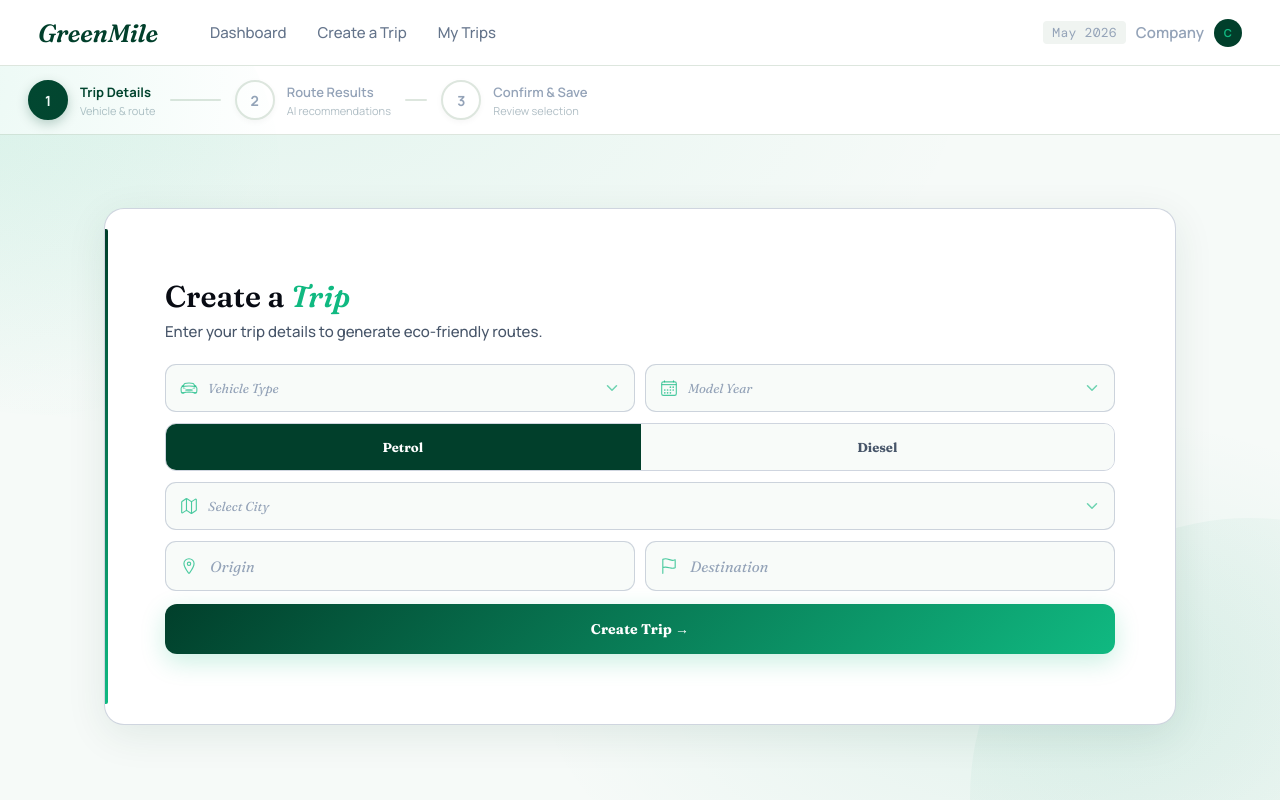
Test: TripScreen — User Interactions › selecting a vehicle type updates the button text
The image size is (1280, 800).
Click the button "Vehicle Type".
click(243, 388)  # box [165,364,635,412]
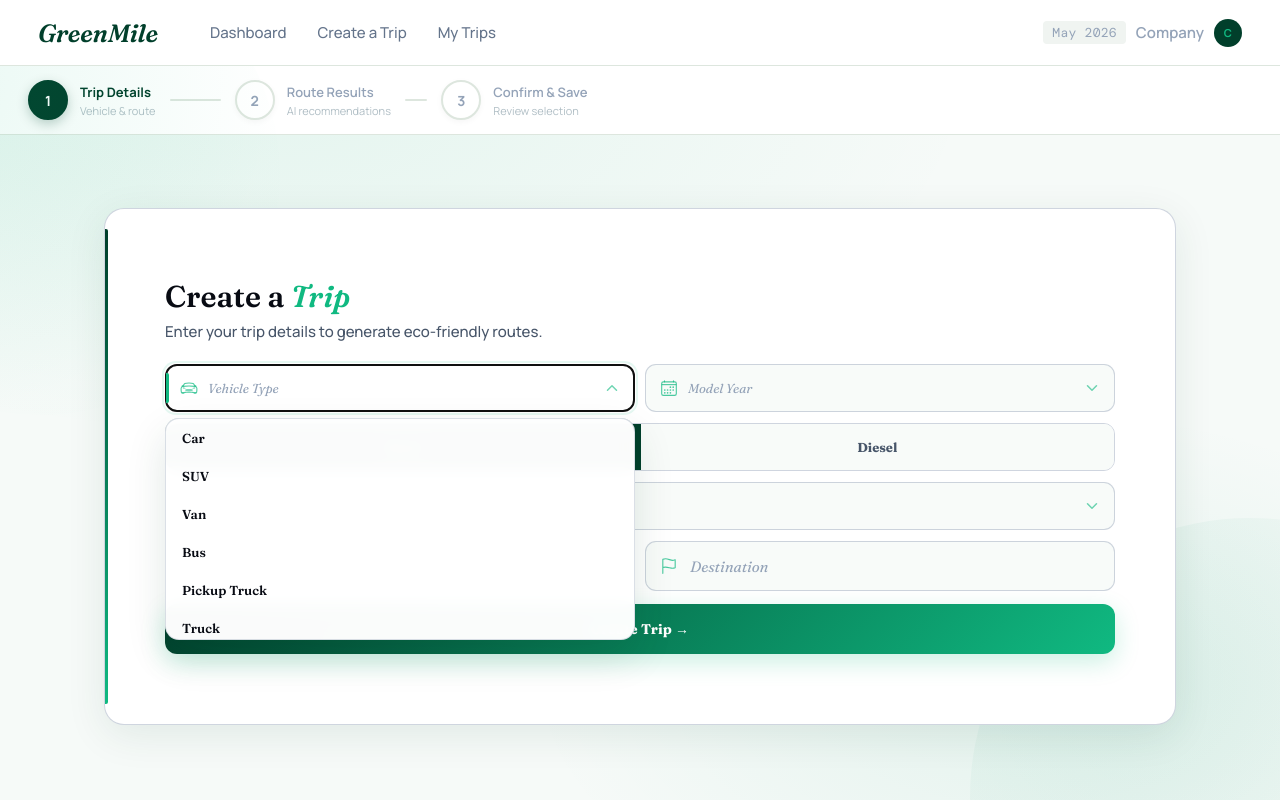
Click the button "SUV".
click(196, 476)  # box [166,457,634,495]
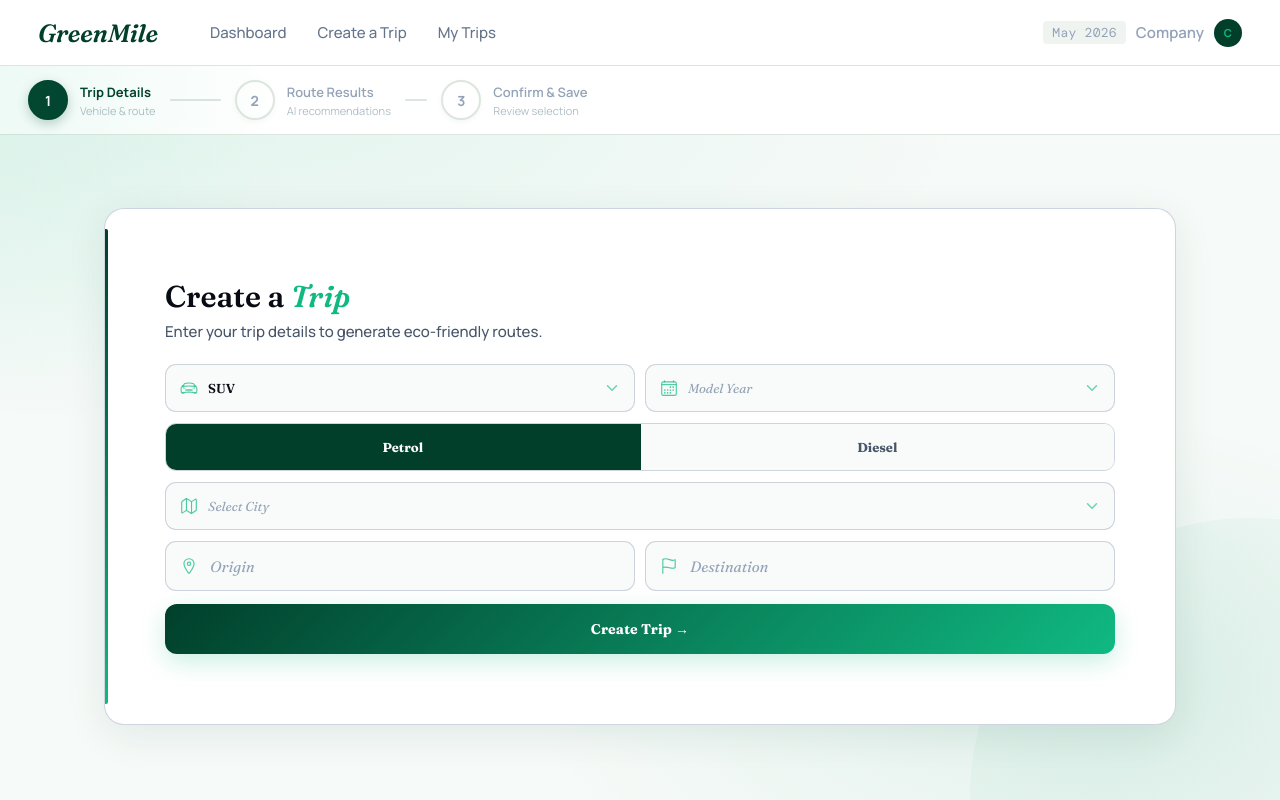
Expected: the button "SUV" is shown, [165,364,635,412]
